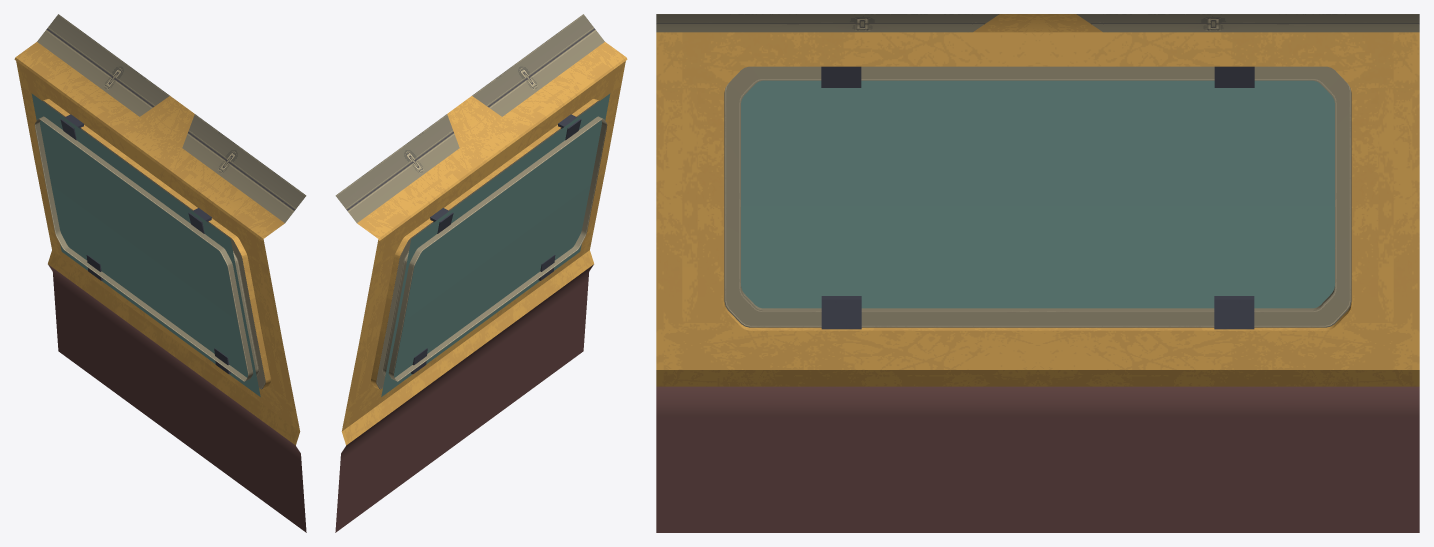
Rendered from Clerestory.gltf.
3 views of the same model, side by side, from view 1: azimuth 30°, elevation 25°; view 2: azimuth 150°, elevation 25°; view 3: azimuth 270°, elevation 25° (orthographic). The views are drawn at different scales.
Visible parts, largest first — view 1: WallAstra_Straight_Window; view 2: WallAstra_Straight_Window; view 3: WallAstra_Straight_Window.
Part boxes in pixels (left/top/right/bottom): WallAstra_Straight_Window: left=14, top=14, right=306, bottom=532; WallAstra_Straight_Window: left=335, top=14, right=627, bottom=532; WallAstra_Straight_Window: left=656, top=14, right=1419, bottom=532.
Bounding box in the file's own units: 0.4975 × 3 × 4.
5 materials, 4 textured.
